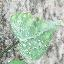Morning glory: (0, 4, 61, 64)
